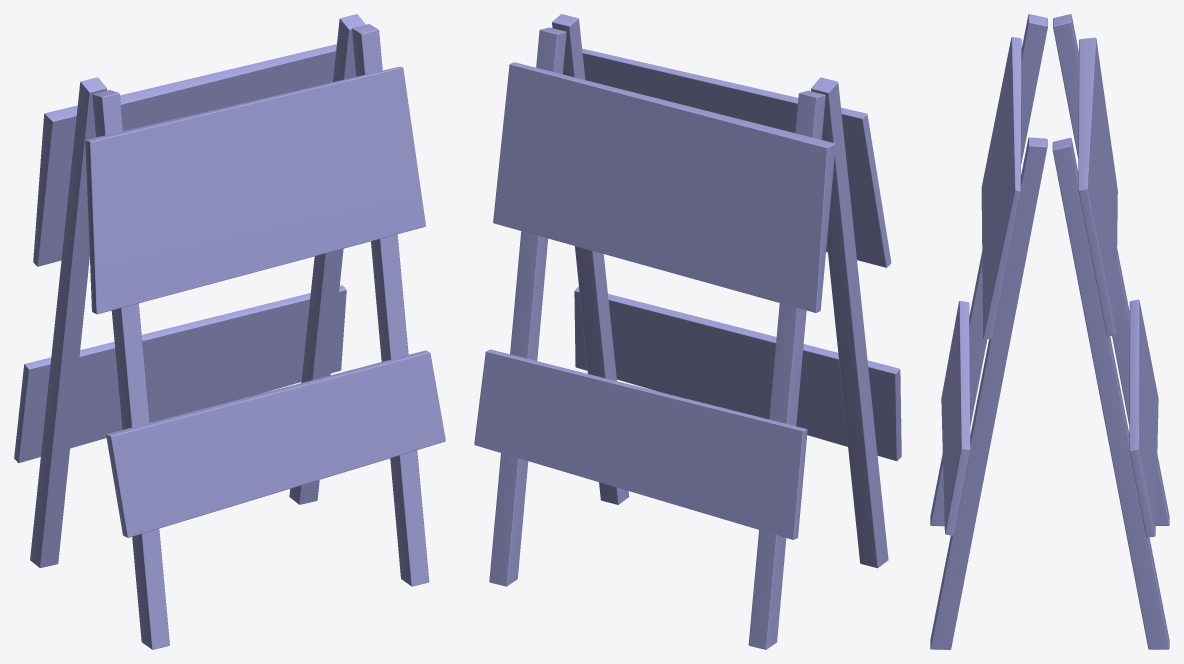
The model's file is Stand_HP.fbx.
The picture shows the model from 3 angles, left to right: view 1: azimuth 30°, elevation 25°; view 2: azimuth 150°, elevation 25°; view 3: azimuth 270°, elevation 25°; orthographic projection. The views are drawn at different scales.
Visible parts, largest first — view 1: pCube24; view 2: pCube24; view 3: pCube24.
Part boxes in pixels (<box>): pCube24: <box>14,14,445,649</box>; pCube24: <box>474,14,901,649</box>; pCube24: <box>930,14,1169,649</box>.
Size of the model in its own units: 66.17 by 42.5 by 98.71.
